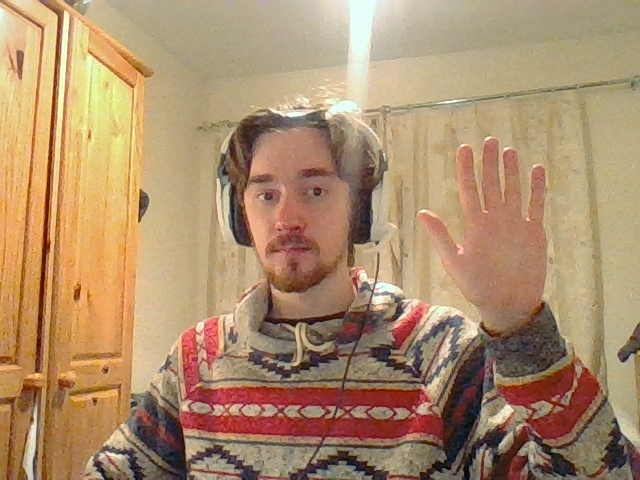hello: (416, 137, 547, 313)
